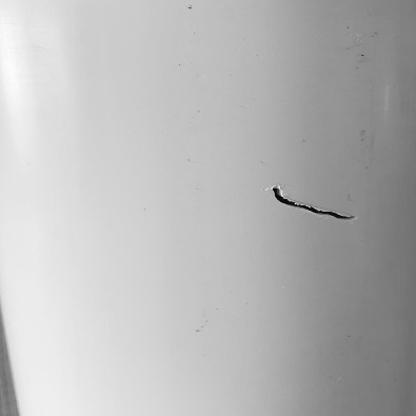fengxi: (270, 185, 359, 221)
